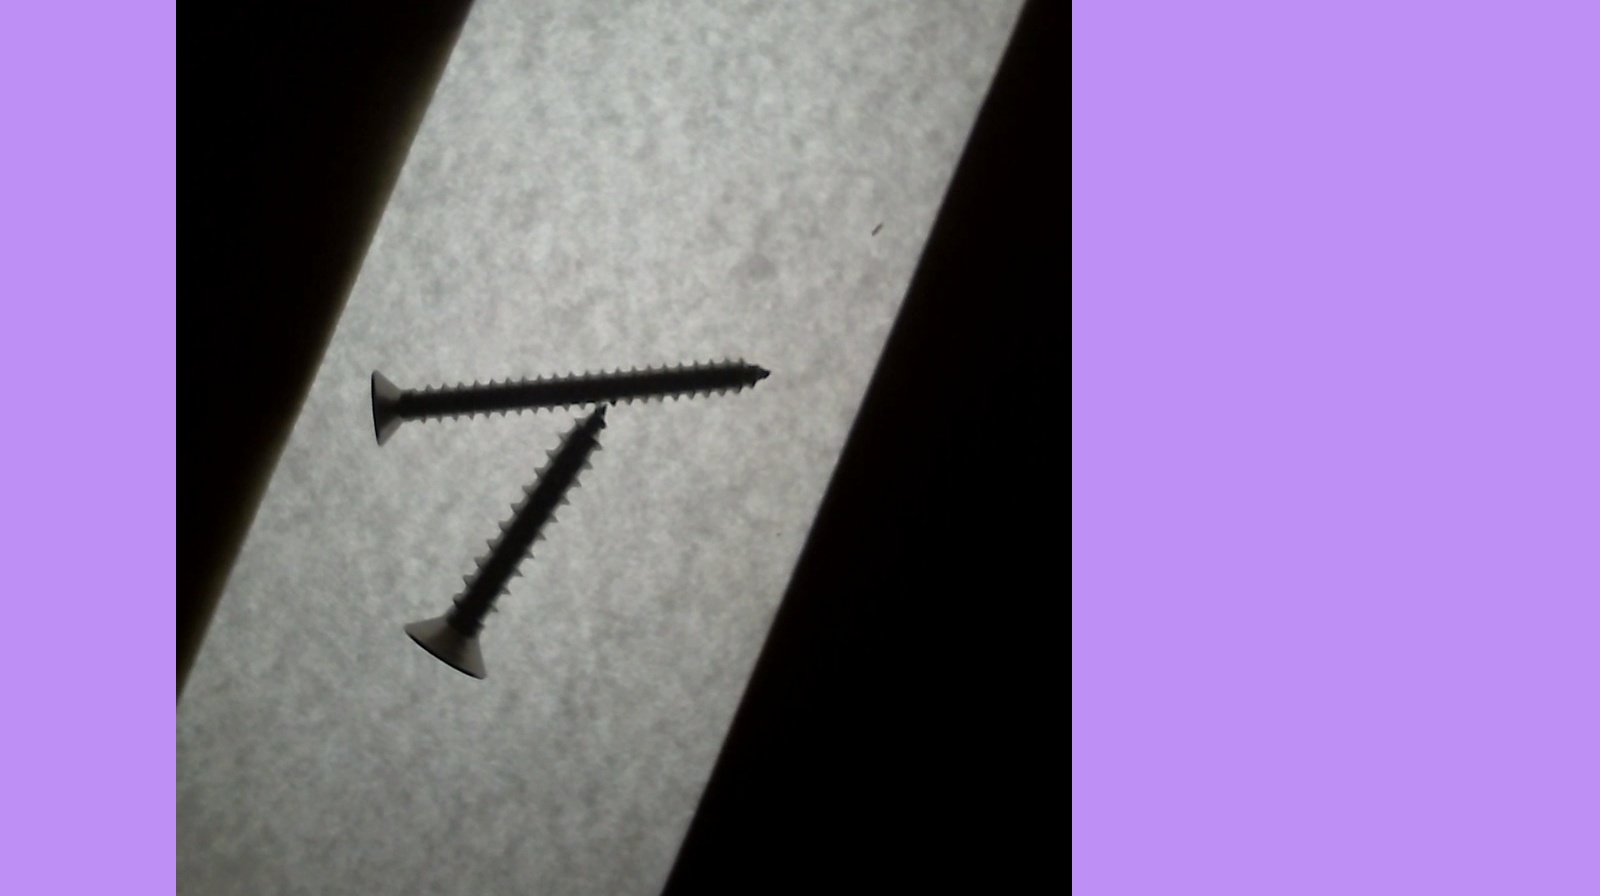S001: (401, 396, 623, 688)
S002: (365, 351, 784, 456)
